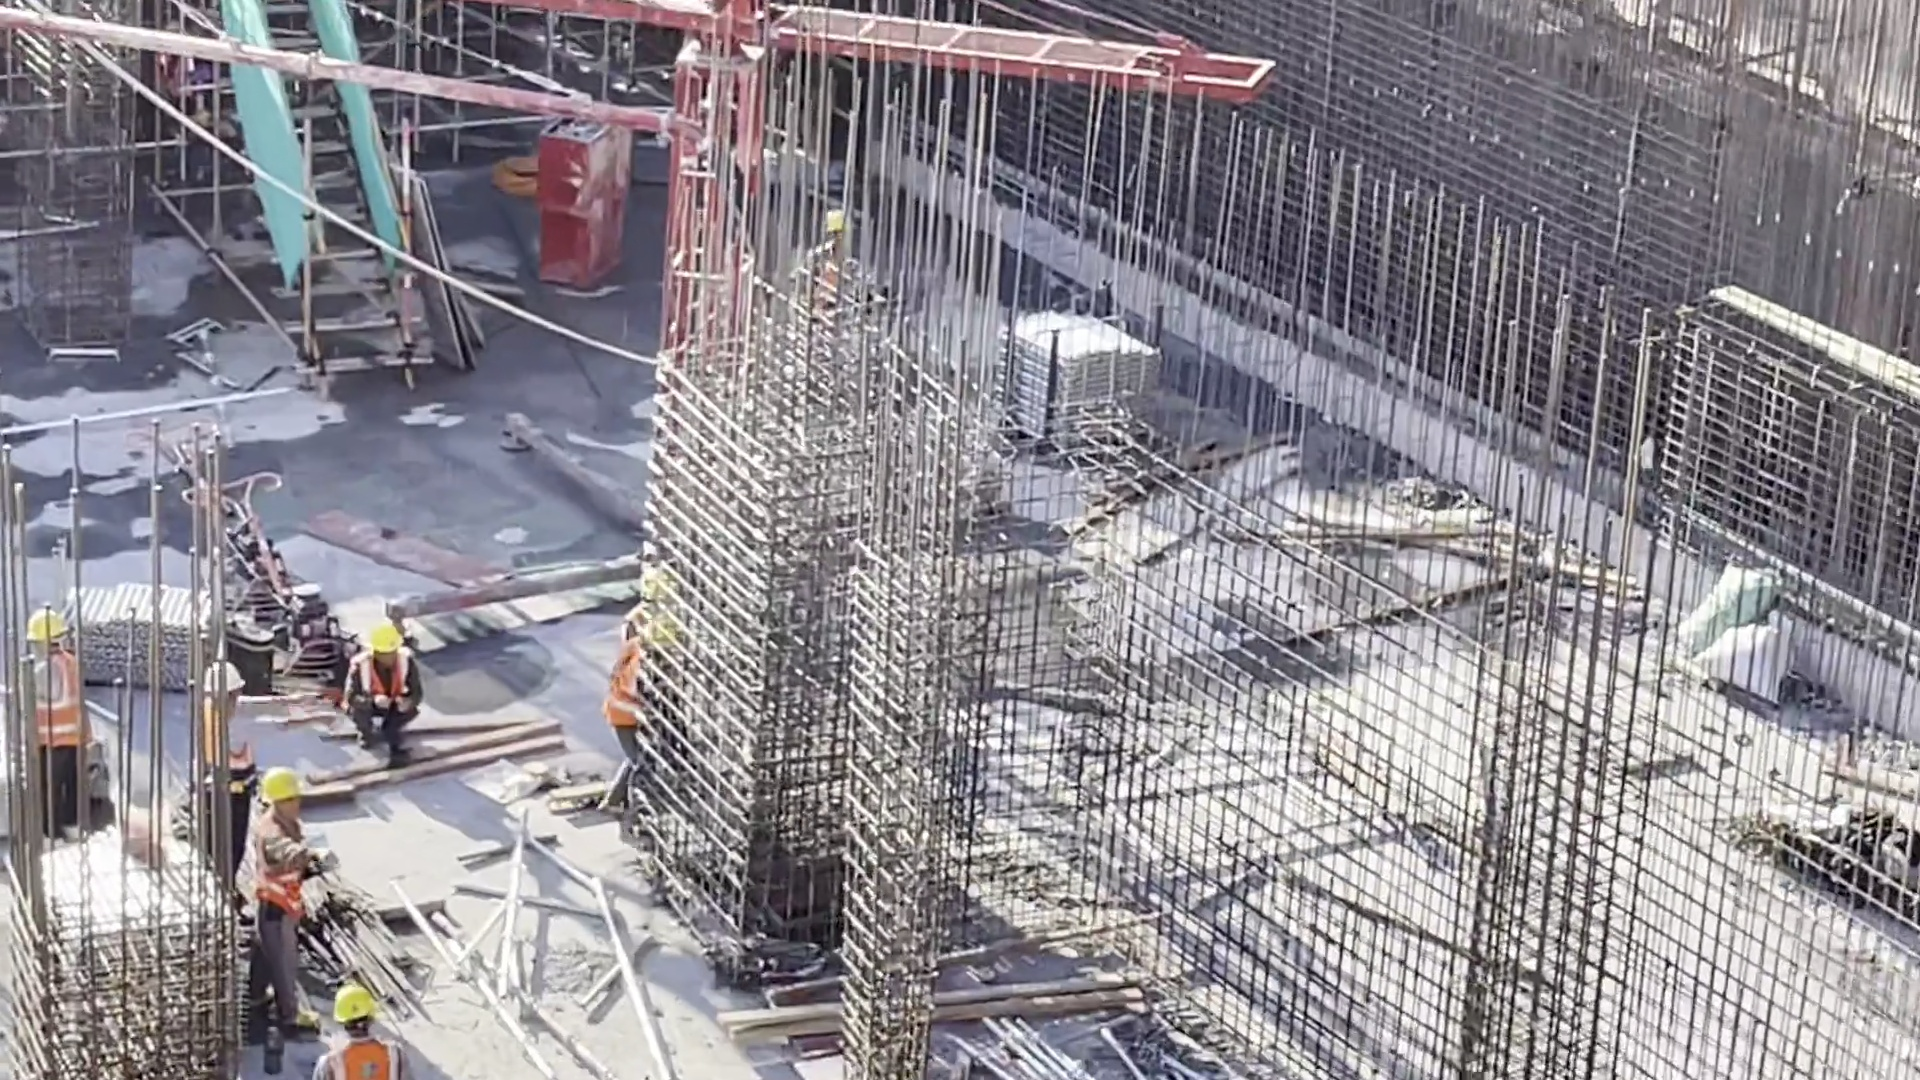helmet: (623, 609, 682, 654), (251, 761, 308, 804), (808, 206, 864, 245), (197, 656, 252, 695), (359, 619, 418, 654), (323, 987, 384, 1020), (26, 609, 85, 638)
person: (15, 594, 114, 832), (229, 771, 317, 1022), (600, 593, 691, 820), (175, 654, 256, 901), (340, 615, 438, 756), (299, 968, 397, 1080)
scaffold: (997, 299, 1149, 457), (66, 578, 220, 700)
vest: (26, 635, 85, 743), (255, 812, 312, 909), (200, 700, 245, 786), (611, 648, 652, 731), (314, 1032, 383, 1080), (347, 654, 408, 700)
